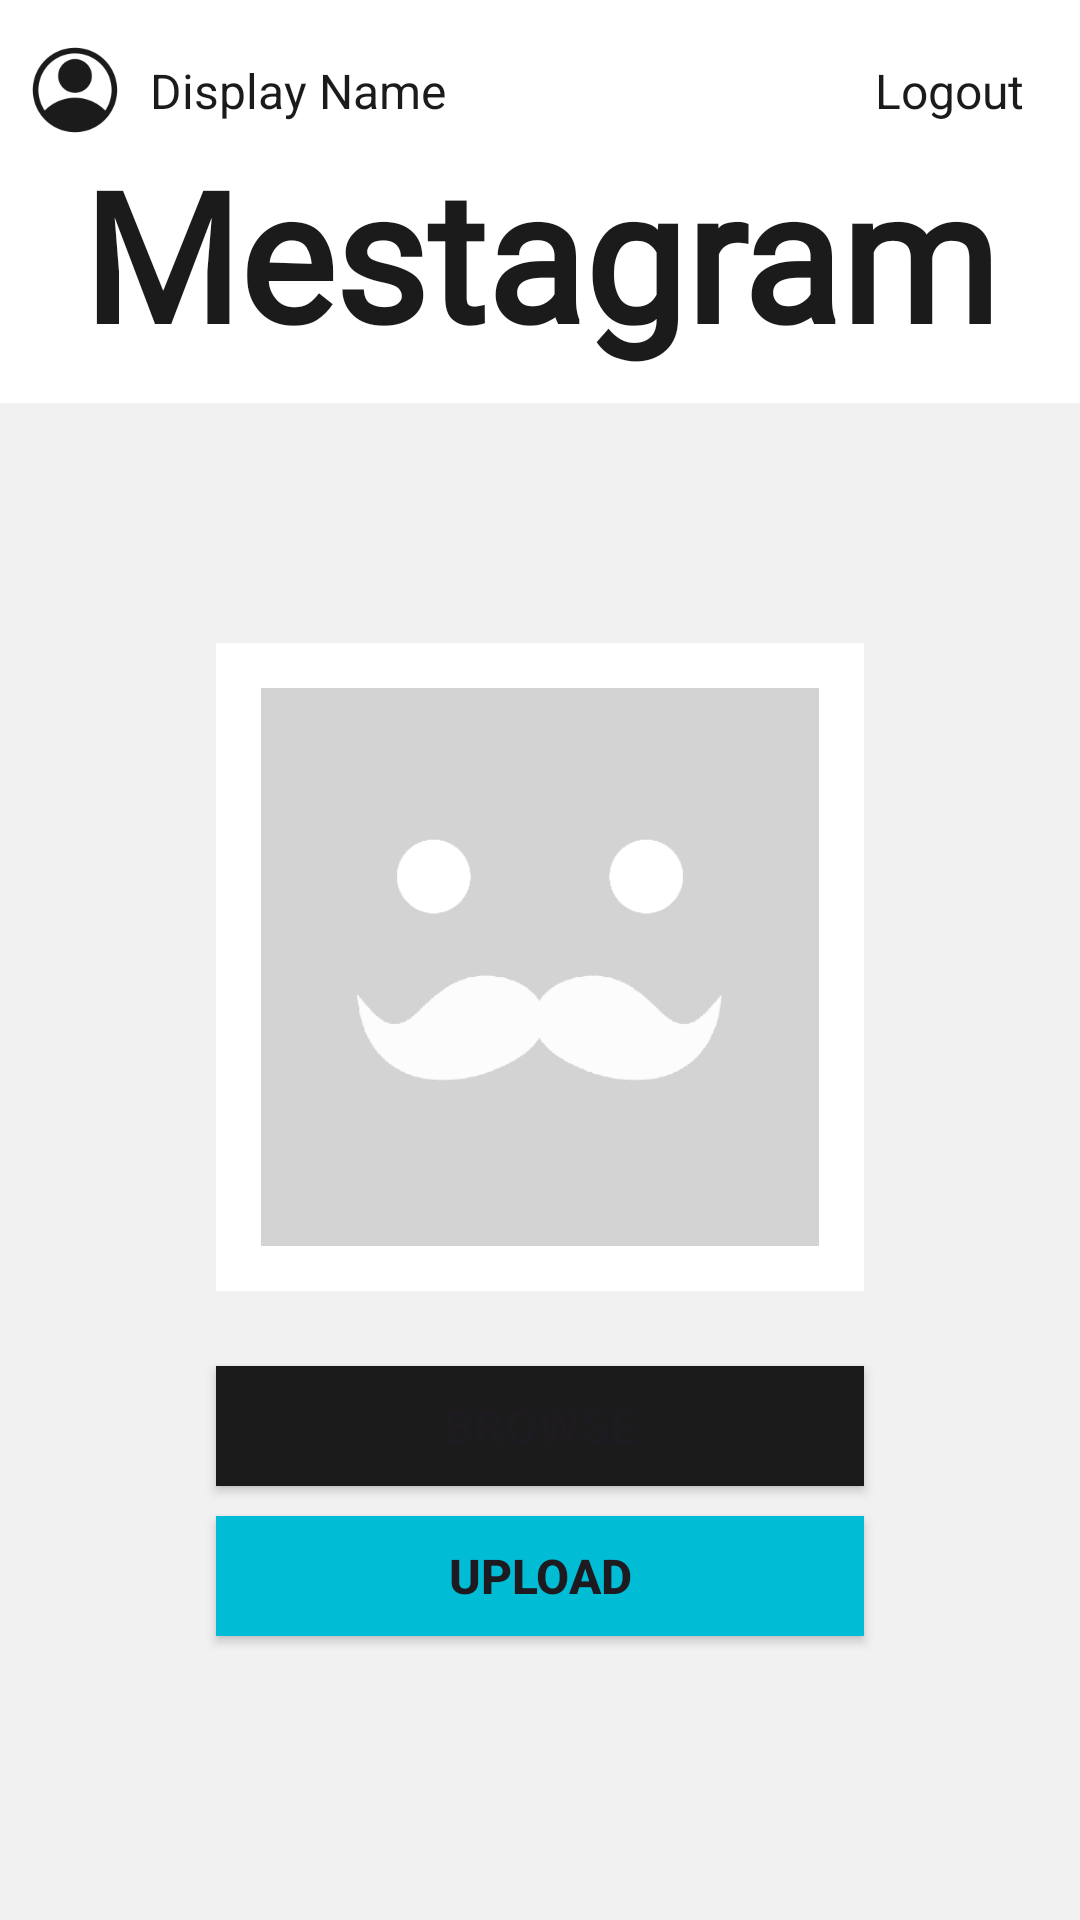

Point at icon controls on the screen. Image size 1080×1920, points as [x,y].
profile: [75,90]
